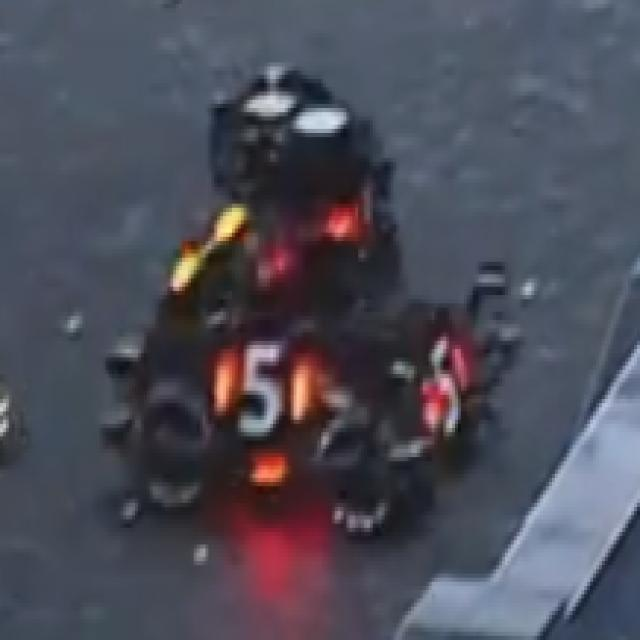R5: (212, 341, 308, 440)
